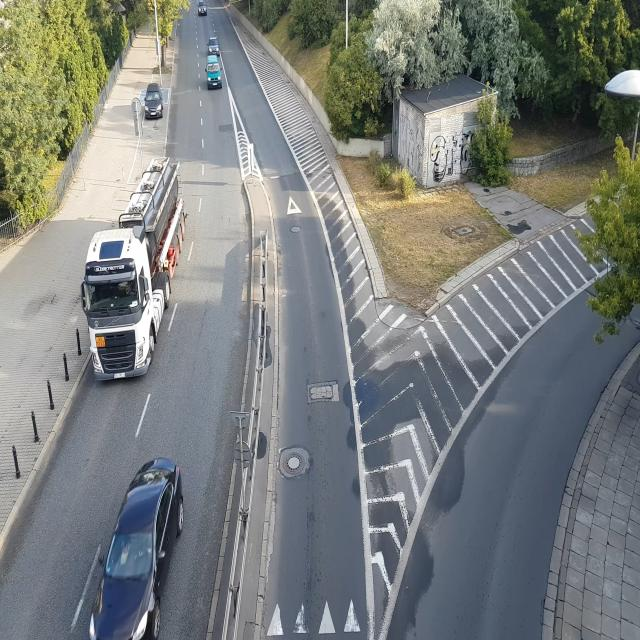car: (88, 442, 192, 637), (144, 89, 164, 119), (206, 60, 222, 90), (196, 0, 210, 18), (206, 38, 221, 54)
truck: (82, 161, 191, 380)
